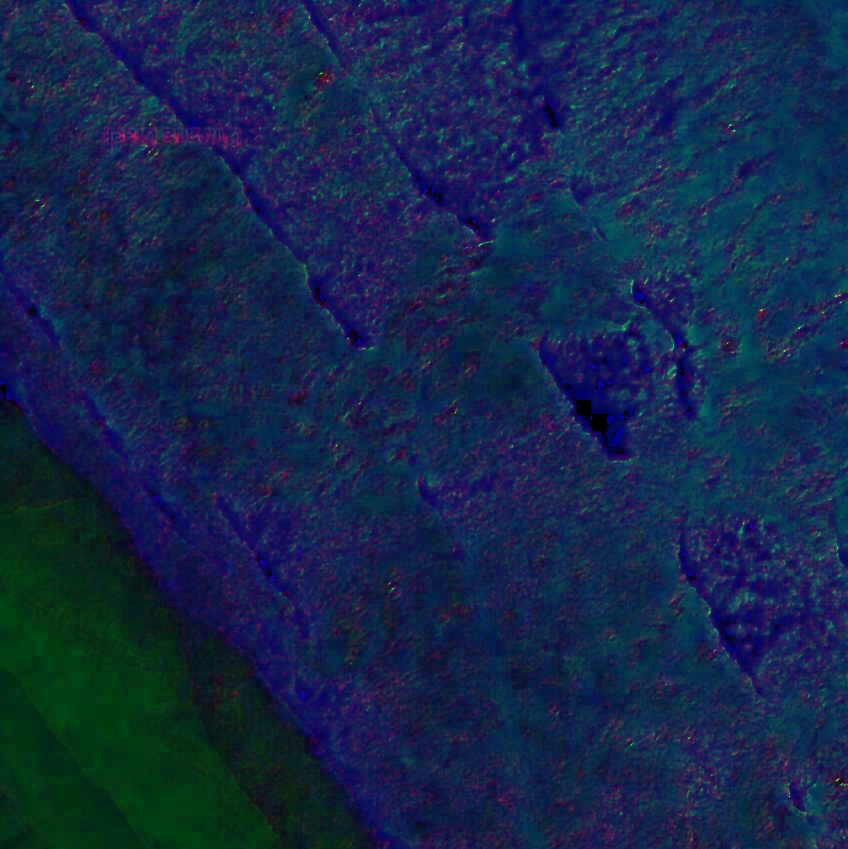rip_current: (236, 148, 693, 498)
